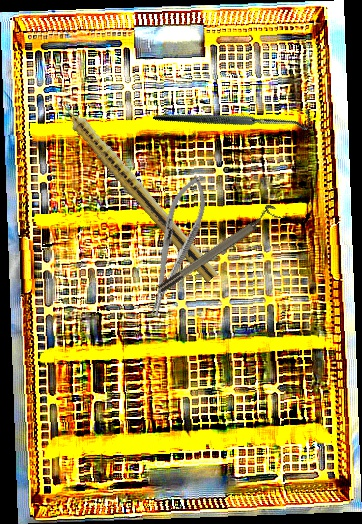Fixation Ring: (153, 202, 282, 295)
Handpiece: (51, 91, 223, 284)
Hook Surgical: (152, 44, 317, 188)
Needle Holder: (136, 169, 216, 320)
